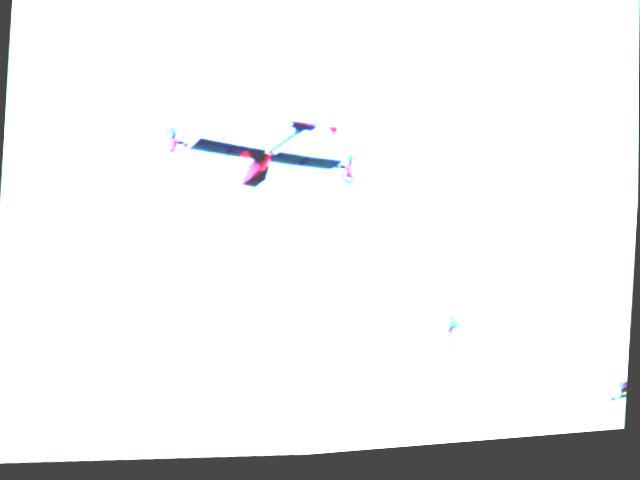uav: (156, 90, 366, 228)
